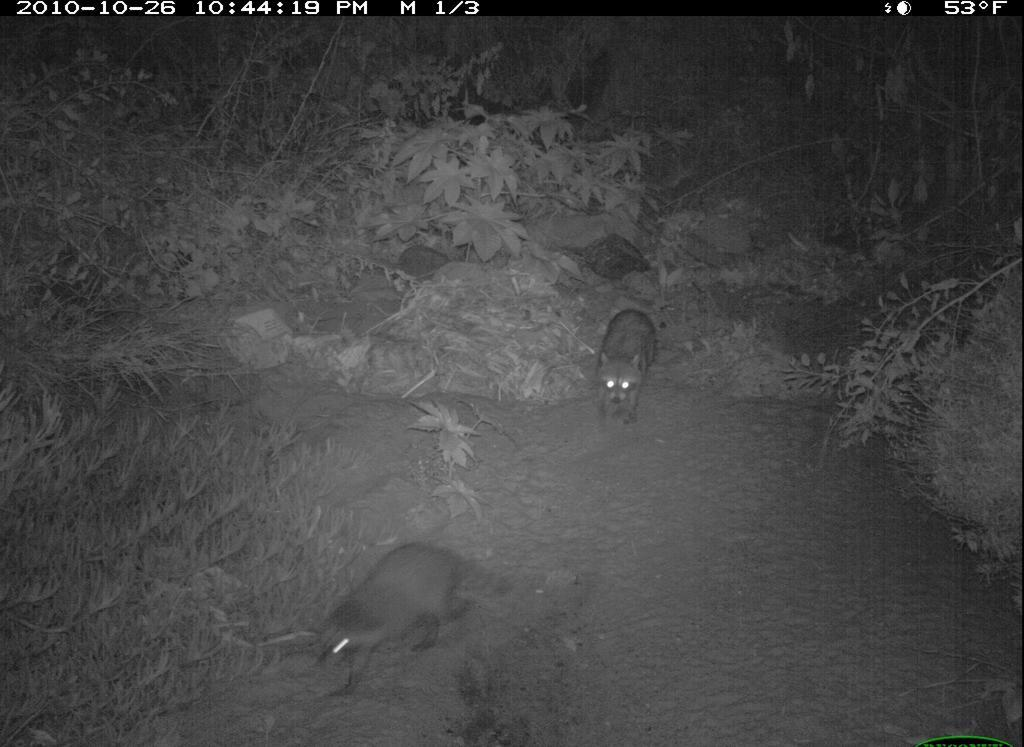raccoon: (314, 536, 521, 707), (587, 290, 667, 437)
